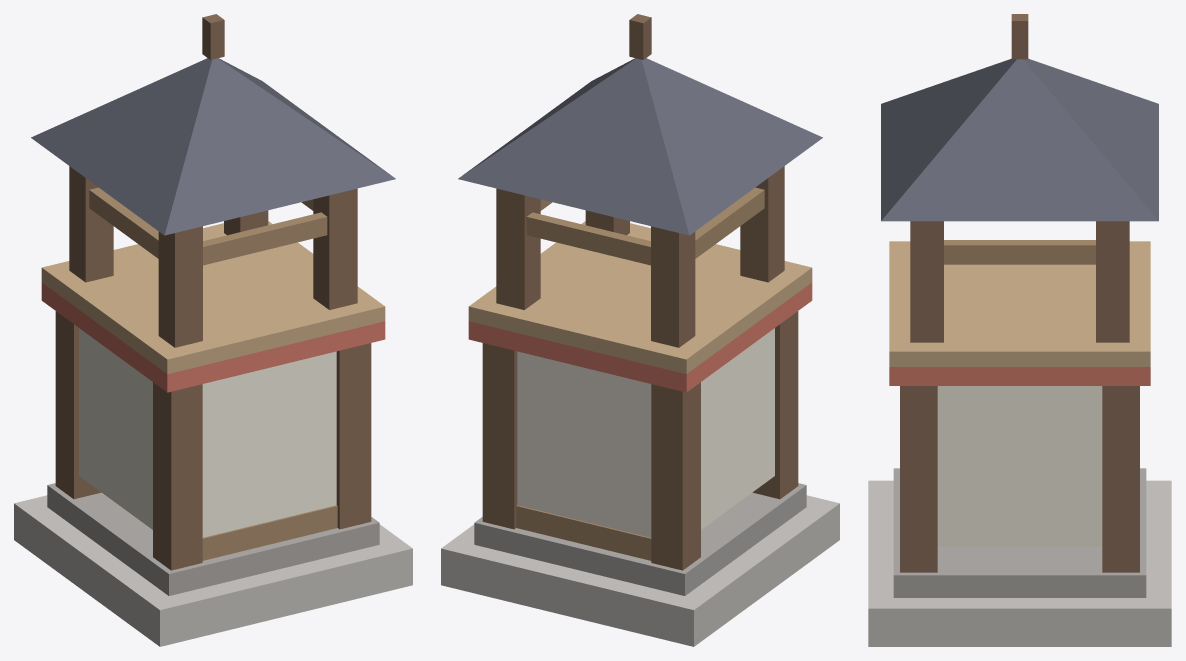
The model's file is station_钟楼.glb.
3 views of the same model, side by side, from view 1: azimuth 30°, elevation 25°; view 2: azimuth 150°, elevation 25°; view 3: azimuth 270°, elevation 25° (orthographic). The views are drawn at different scales.
Visible parts, largest first — view 1: 钟楼; view 2: 钟楼; view 3: 钟楼.
Boxes of the visible parts, bbox=[...] form: 钟楼: bbox=[14, 14, 412, 646]; 钟楼: bbox=[441, 14, 839, 646]; 钟楼: bbox=[868, 14, 1171, 646].
Bounding box in the file's own units: 0.72 × 1.48 × 0.72.
